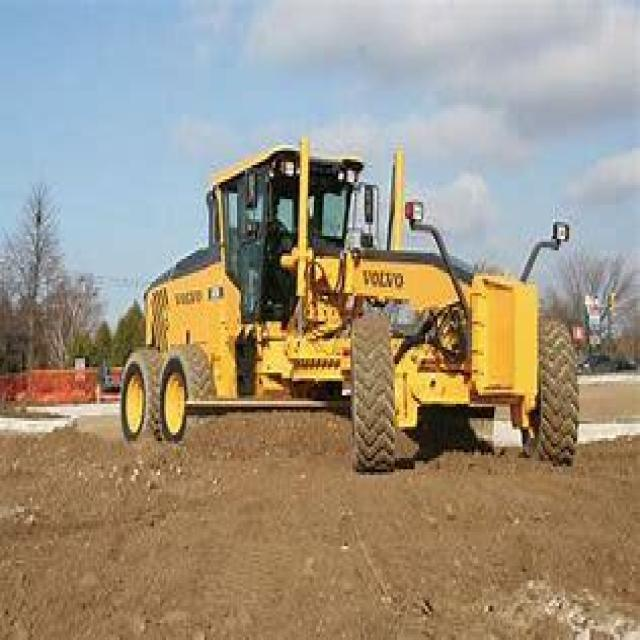buldozerpayloadergrader: (99, 139, 592, 495)
